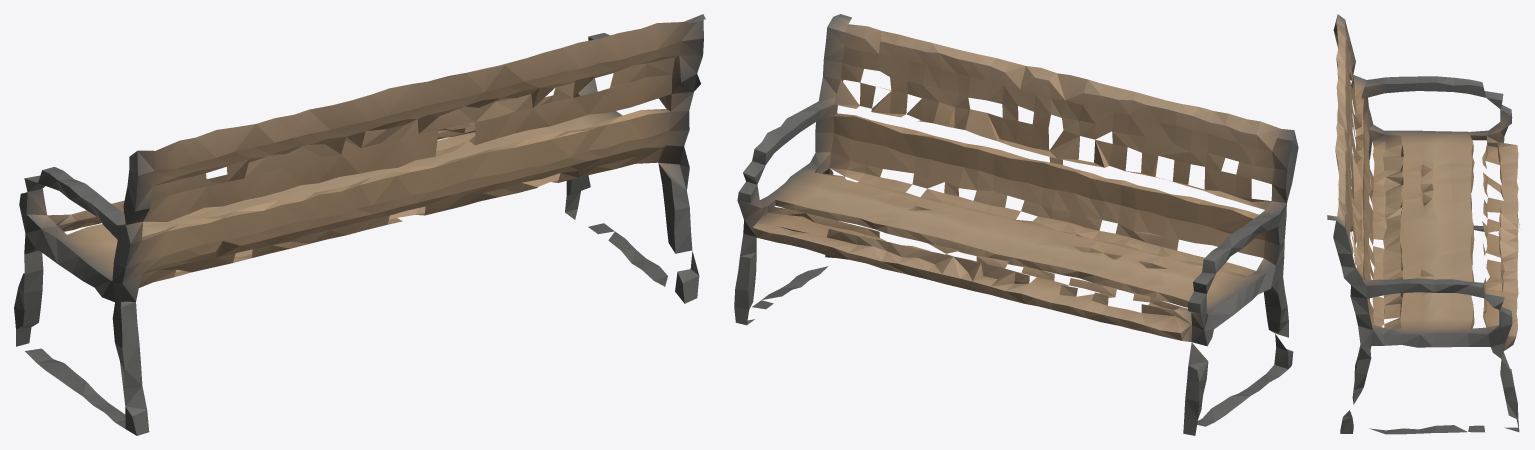
Rendered from prop_banco.glb.
3 renders of one model, left to right at view 1: azimuth 30°, elevation 25°; view 2: azimuth 150°, elevation 25°; view 3: azimuth 270°, elevation 25°, orthographic. The views are drawn at different scales.
Bounding box in the file's own units: 0.992 × 0.4789 × 0.387.
